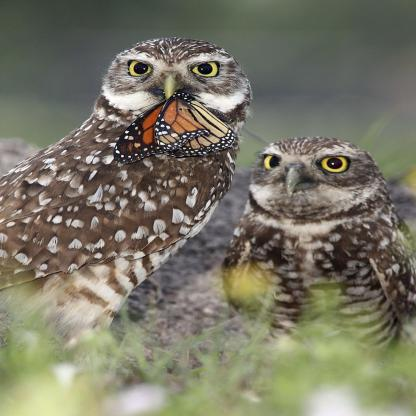owl: (20, 2, 320, 416), (253, 100, 416, 416)
